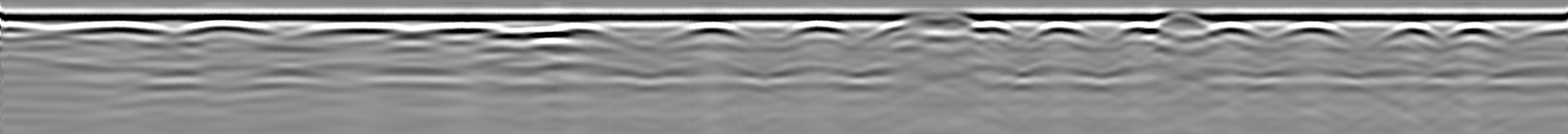pipe: (878, 9, 990, 32), (1146, 12, 1221, 30)
steel: (1, 21, 176, 37), (1271, 21, 1360, 41), (181, 21, 281, 38), (772, 23, 861, 41), (300, 24, 406, 39), (665, 24, 757, 40), (536, 24, 623, 40), (412, 23, 503, 38), (1373, 23, 1451, 40), (1027, 21, 1095, 40), (1107, 21, 1171, 39), (1446, 24, 1513, 40), (1209, 23, 1263, 39)
